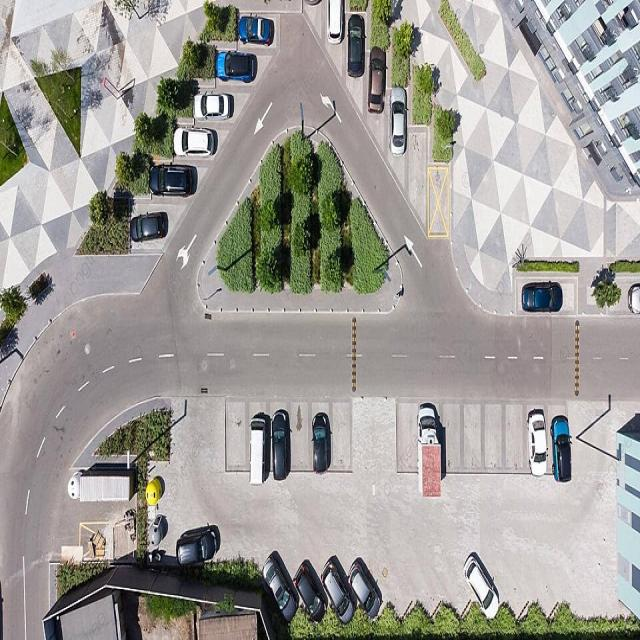libre: (498, 542, 618, 619), (446, 398, 527, 492), (407, 120, 457, 247), (339, 400, 415, 483), (379, 548, 470, 615), (223, 406, 247, 486)
ocupado: (120, 12, 285, 253), (301, 1, 412, 178), (261, 550, 388, 624), (522, 406, 575, 489), (245, 404, 293, 495), (457, 550, 503, 625), (413, 397, 447, 486), (309, 410, 338, 495)
